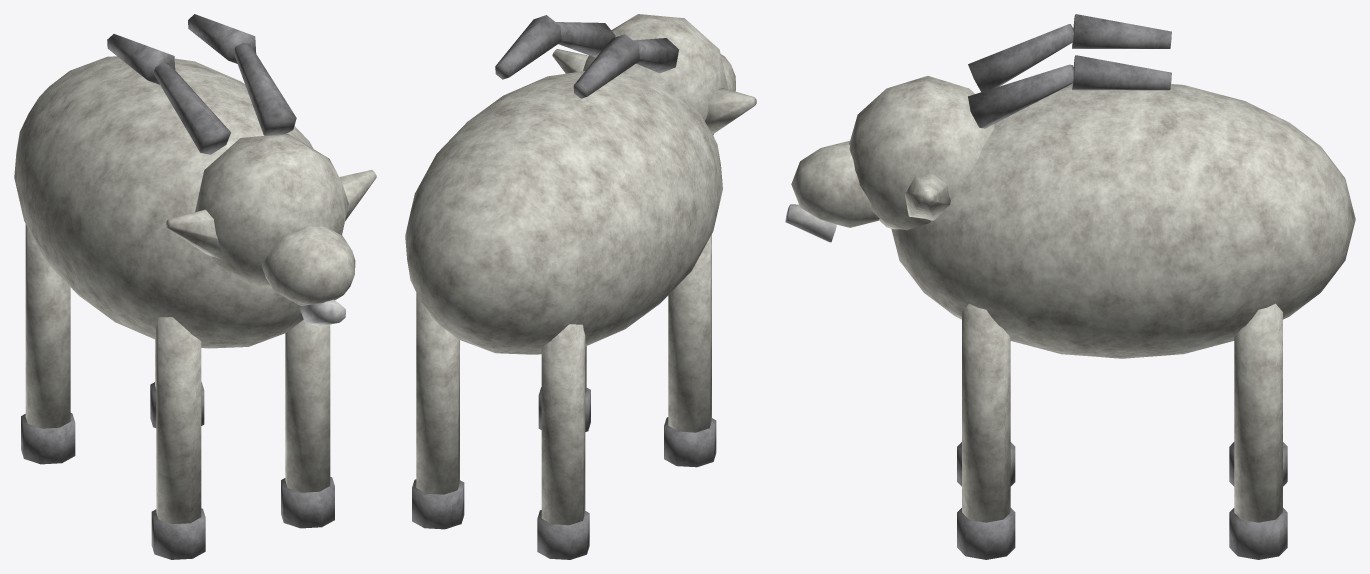
Rendered from mob_kambing_idle.obj.
3 views of the same model, side by side, from view 1: azimuth 30°, elevation 25°; view 2: azimuth 150°, elevation 25°; view 3: azimuth 270°, elevation 25° (orthographic). The views are drawn at different scales.
Visible parts, largest first — view 1: mob_kambing_idle; view 2: mob_kambing_idle; view 3: mob_kambing_idle.
Boxes of the visible parts, left/top/right/bottom form: mob_kambing_idle: left=14, top=14, right=376, bottom=559; mob_kambing_idle: left=405, top=14, right=756, bottom=559; mob_kambing_idle: left=785, top=14, right=1355, bottom=559.
Size of the model in its own units: 0.5506 by 1 by 1.08.
1 material, 1 textured.
